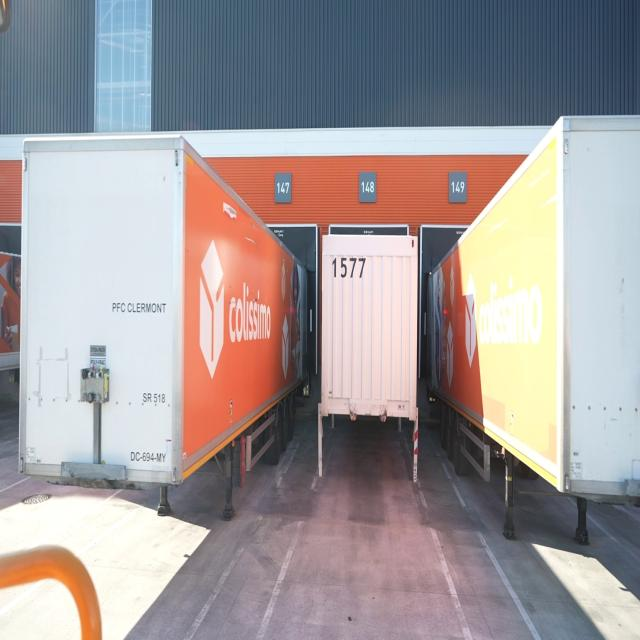Code: (329, 252, 370, 278)
